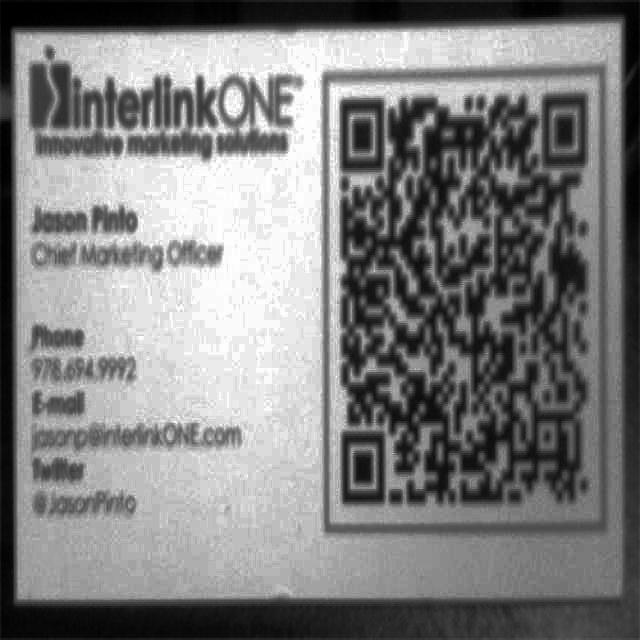qr_code: (342, 96, 588, 500)
